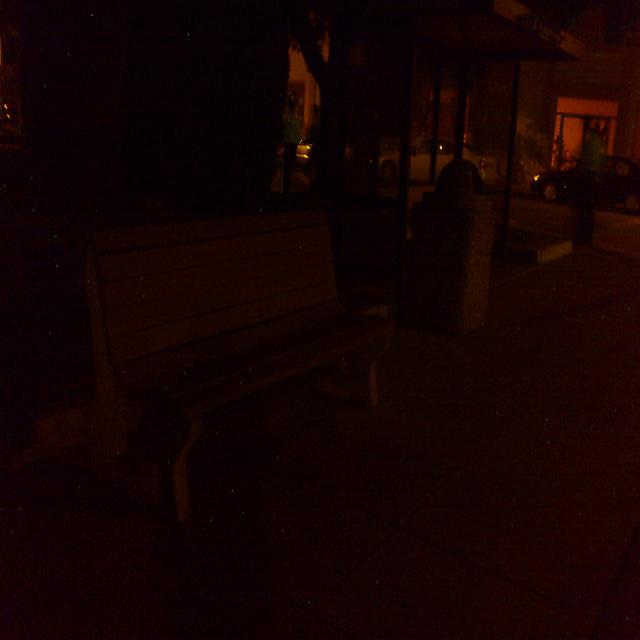People: (569, 99, 615, 266), (271, 95, 316, 182)
car: (529, 142, 640, 217), (374, 134, 508, 195)
chair: (87, 197, 405, 533)
